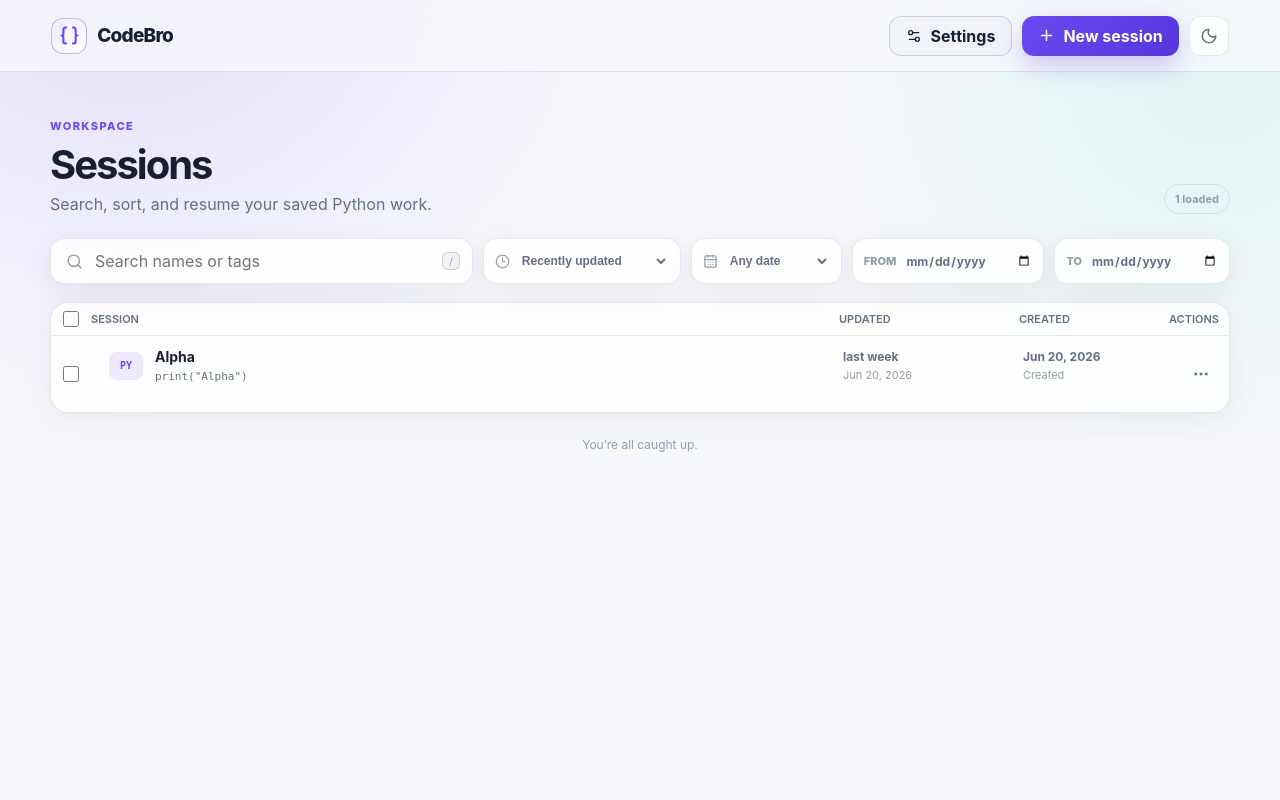
Test case: SessionLibrary data operations › reuses the caller-owned delete mutation ID after an uncertain failure
The image size is (1280, 800).
Click the button named "Actions for Alpha": [1201, 374] box [1184, 357, 1218, 391]
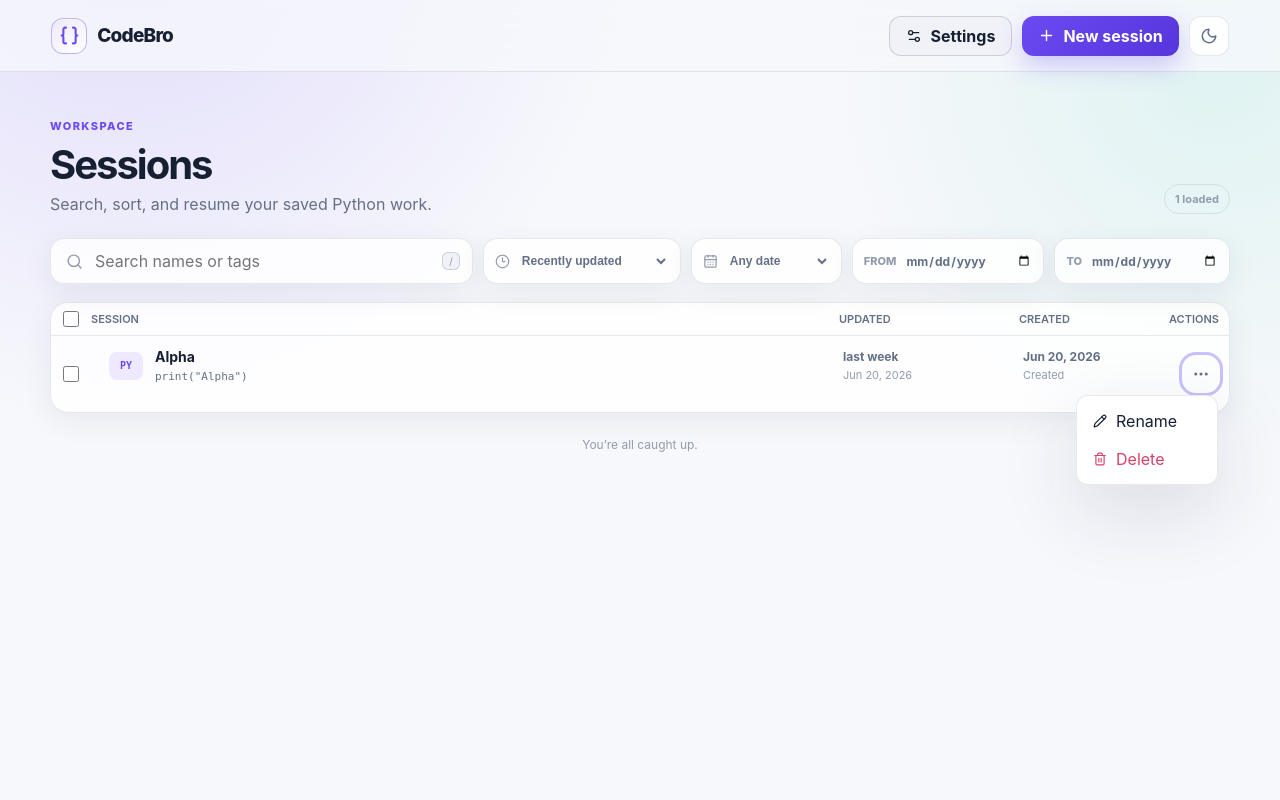
Click the button "Delete": [1147, 459] box [1083, 440, 1211, 478]
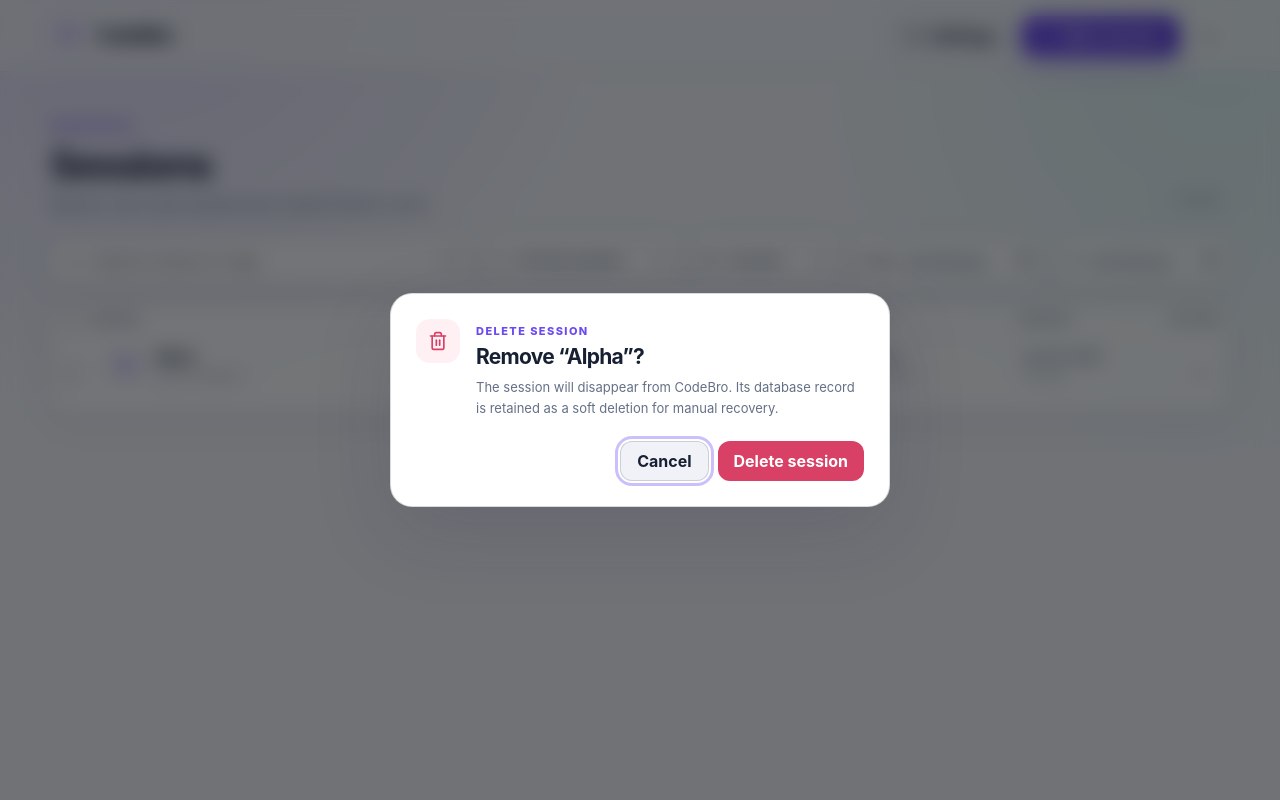
Click the button "Delete session": [791, 461] box [718, 441, 864, 481]
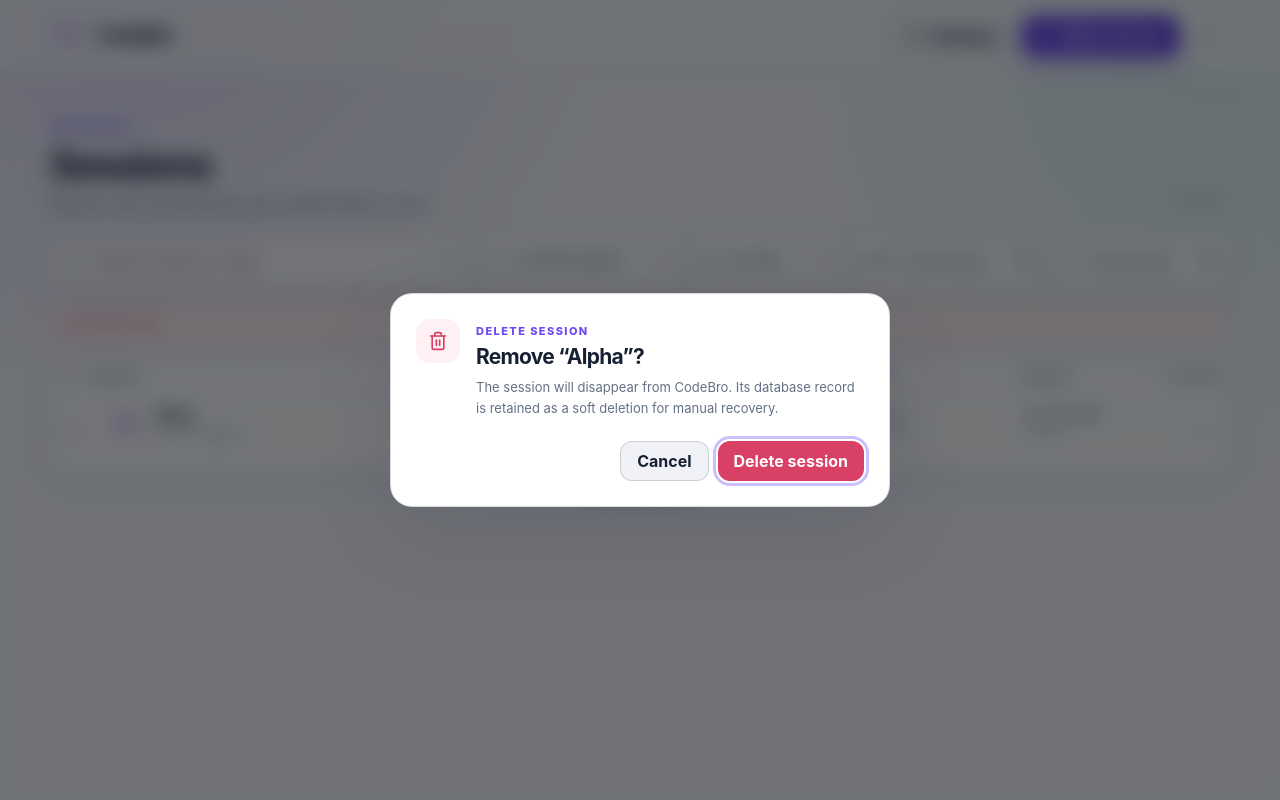
Expected: the text "connection lost" is shown, [50, 302, 1230, 344]
Click the button "Delete session": [791, 461] box [718, 441, 864, 481]
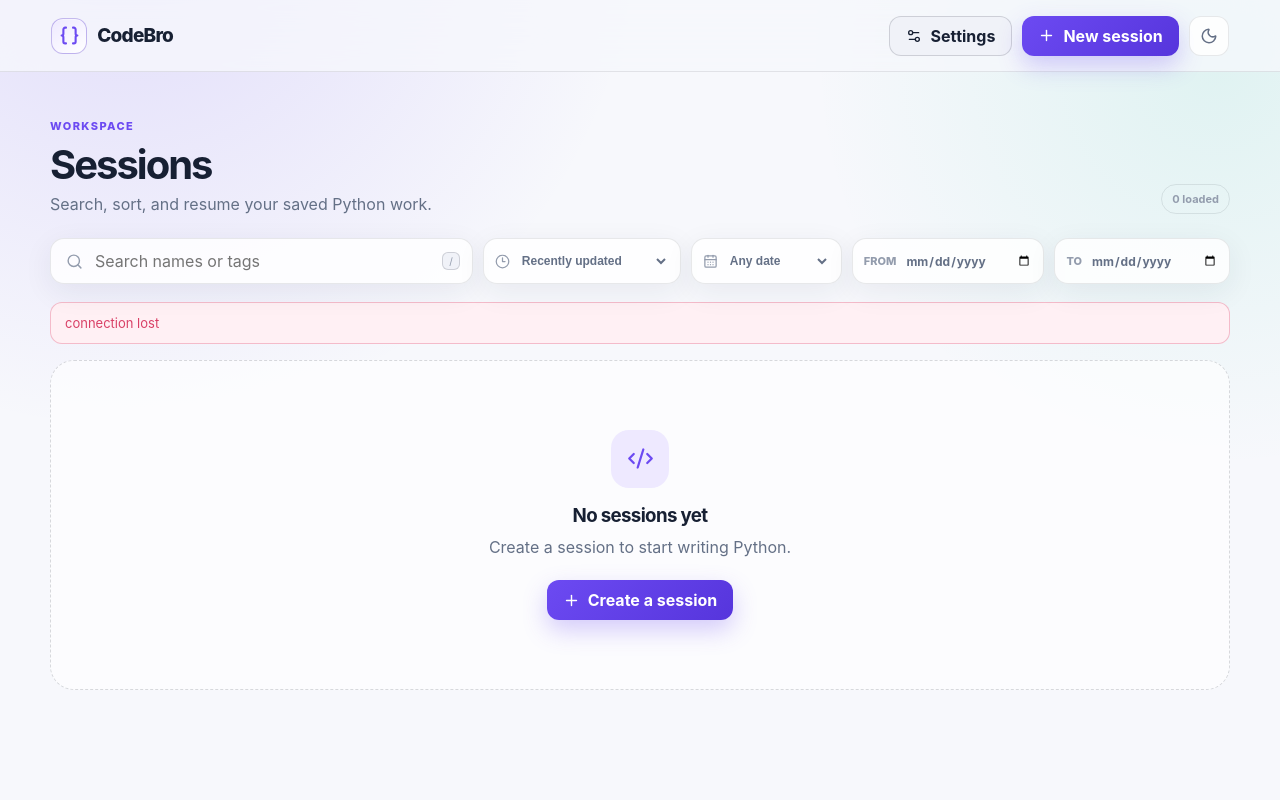
Now the button "Alpha" is gone
